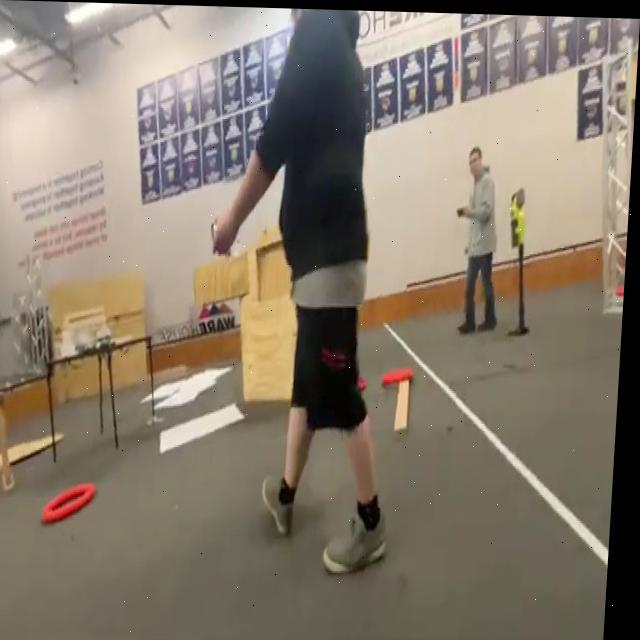note: (44, 478, 101, 527), (385, 361, 420, 384)
